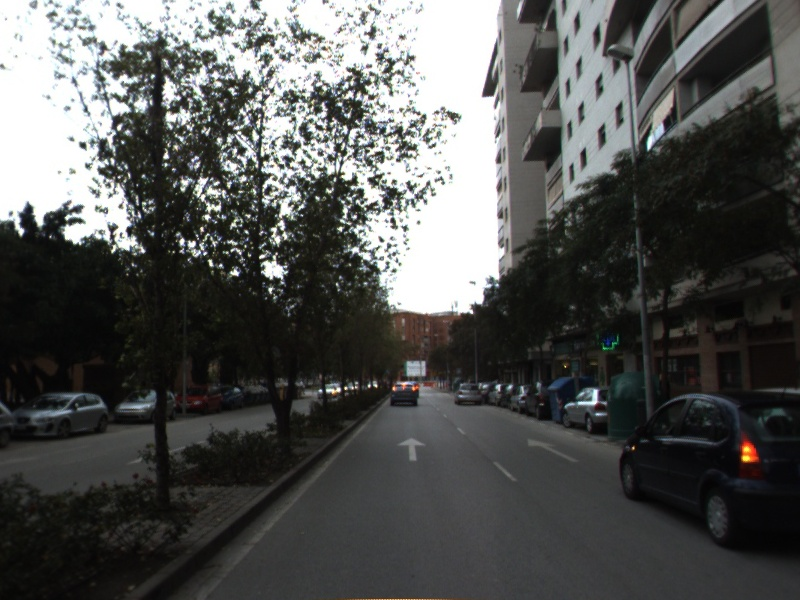STRAIGHT: (525, 436, 582, 464), (395, 435, 429, 463)
